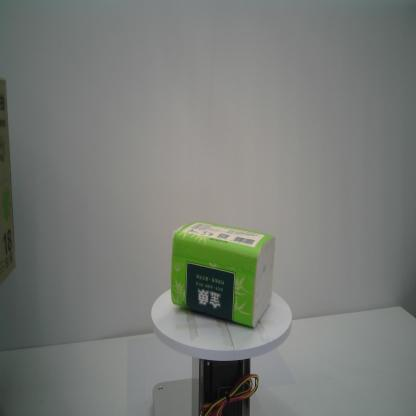Tissue: (169, 219, 277, 331)
